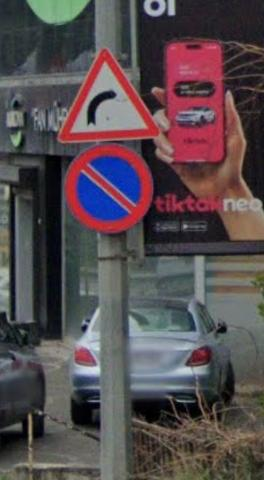nopark: (66, 149, 152, 231)
